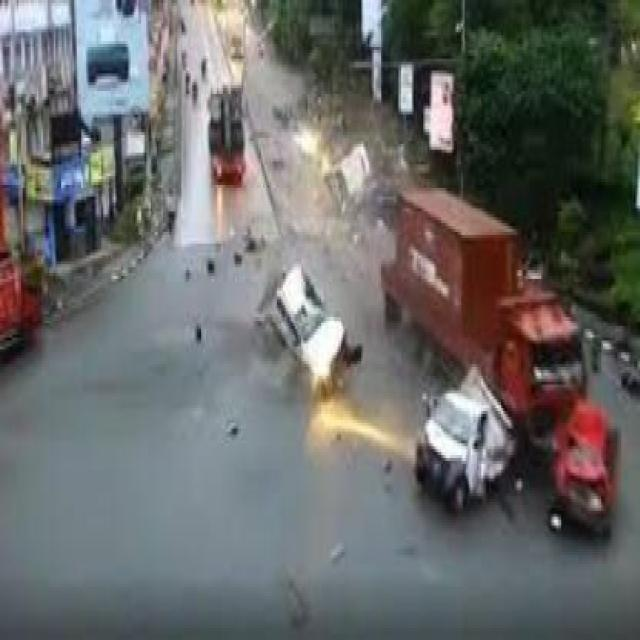accident: (377, 164, 526, 549), (538, 294, 630, 540), (256, 252, 366, 411), (322, 118, 376, 218)
